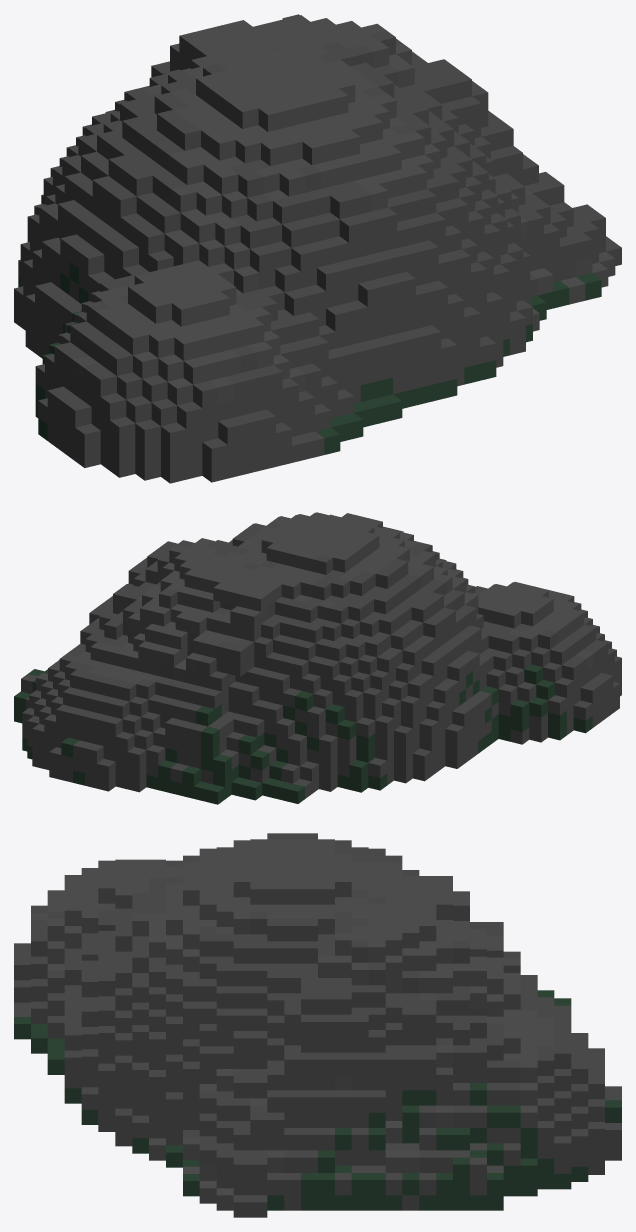
Rendered from stone1.obj.
3 renders of one model, top to bottom at view 1: azimuth 30°, elevation 25°; view 2: azimuth 150°, elevation 25°; view 3: azimuth 270°, elevation 25°, orthographic. The views are drawn at different scales.
Size of the model in its own units: 3.8 by 1.4 by 3.6.
Materials: 1 (1 with a texture image).
